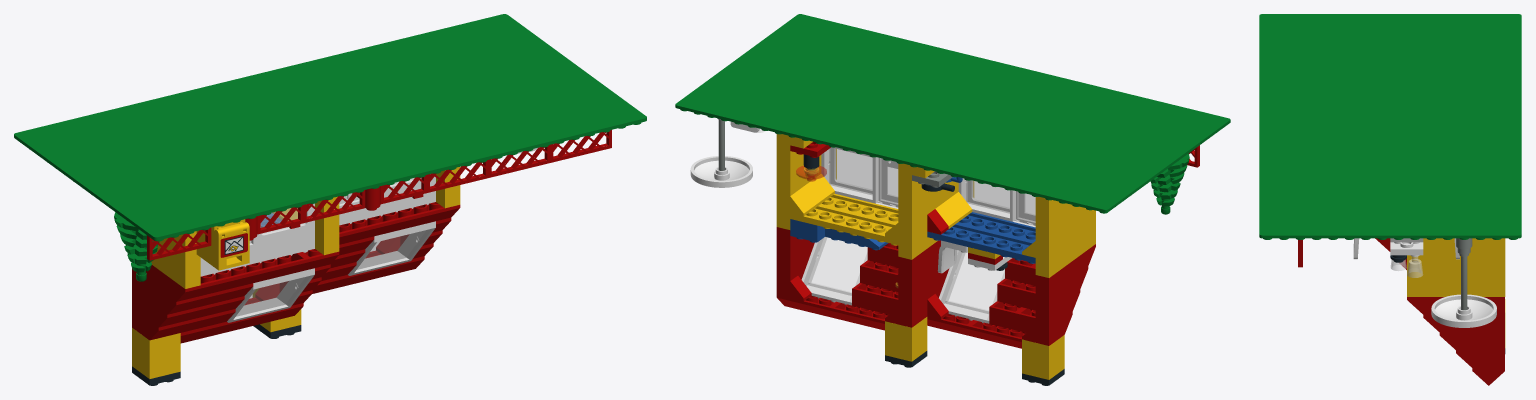
3 views of the same model, side by side, from view 1: azimuth 30°, elevation 25°; view 2: azimuth 150°, elevation 25°; view 3: azimuth 270°, elevation 25° (orthographic). The views are drawn at different scales.
Bounding box in the file's own units: 650 × 304 × 320.
